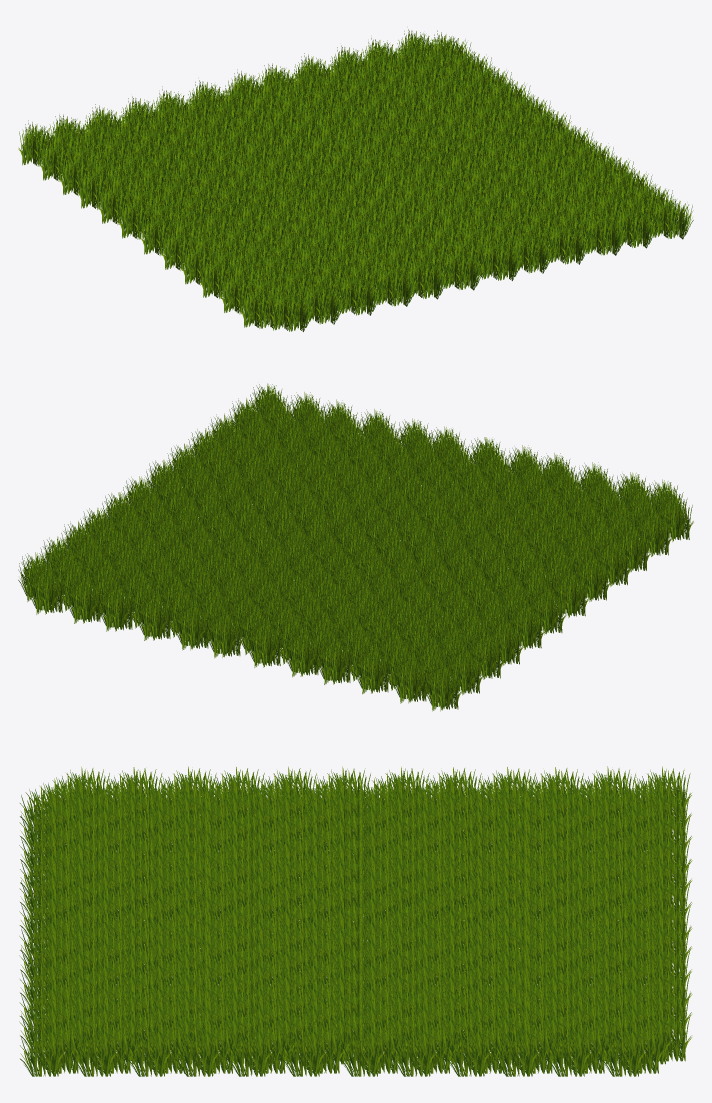
The model's file is green_field.glb.
3 views of the same model, one above another, from view 1: azimuth 30°, elevation 25°; view 2: azimuth 150°, elevation 25°; view 3: azimuth 270°, elevation 25° (orthographic). The views are drawn at different scales.
Parts seen in each view (by area): view 1: 78f67a44e13965ae3008bbb284401925.000_78f67a44e13965ae3008bbb; view 2: 78f67a44e13965ae3008bbb284401925.000_78f67a44e13965ae3008bbb; view 3: 78f67a44e13965ae3008bbb284401925.000_78f67a44e13965ae3008bbb.
Part boxes in pixels (x1,y1,x2,y2): 78f67a44e13965ae3008bbb284401925.000_78f67a44e13965ae3008bbb: [18, 29, 693, 331]; 78f67a44e13965ae3008bbb284401925.000_78f67a44e13965ae3008bbb: [18, 383, 693, 711]; 78f67a44e13965ae3008bbb284401925.000_78f67a44e13965ae3008bbb: [19, 766, 692, 1076].
Bounding box in the file's own units: 16.35 × 1.58 × 16.56.
1 material, 1 textured.
